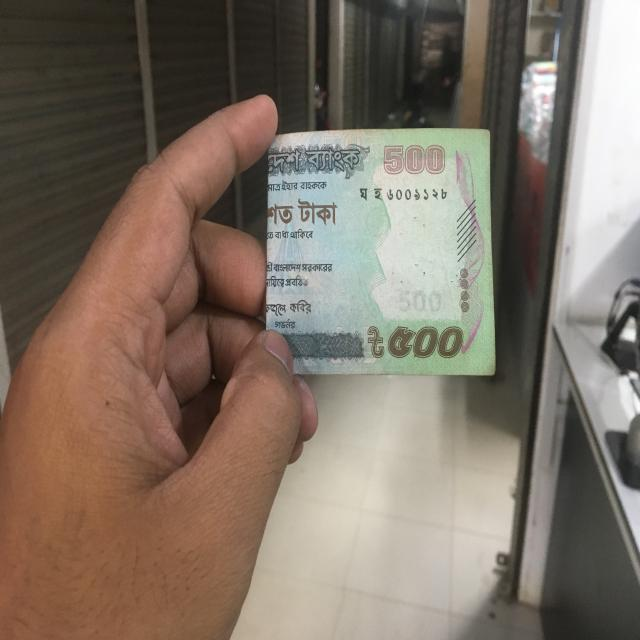Taka: (271, 130, 497, 377)
